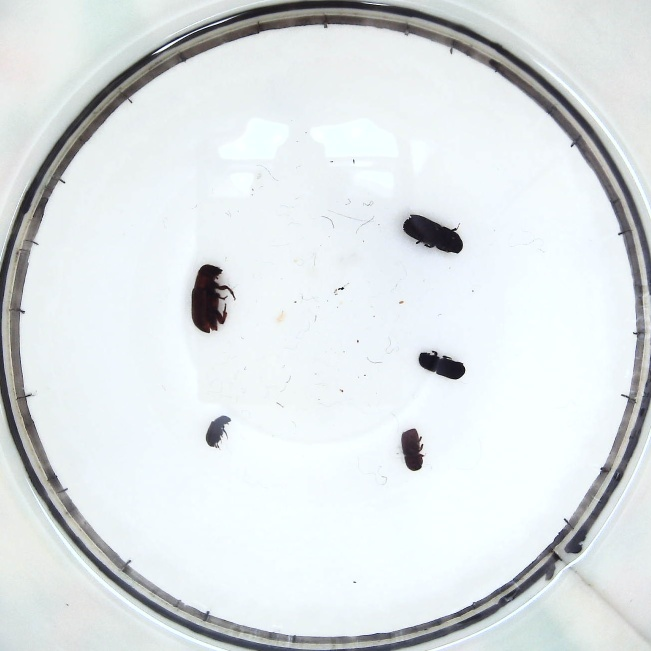armandi: (417, 347, 467, 382)
boerner: (400, 212, 466, 255)
coleoptera: (205, 414, 232, 449)
leconte: (189, 265, 233, 335)
linnaeus: (400, 427, 426, 472)
